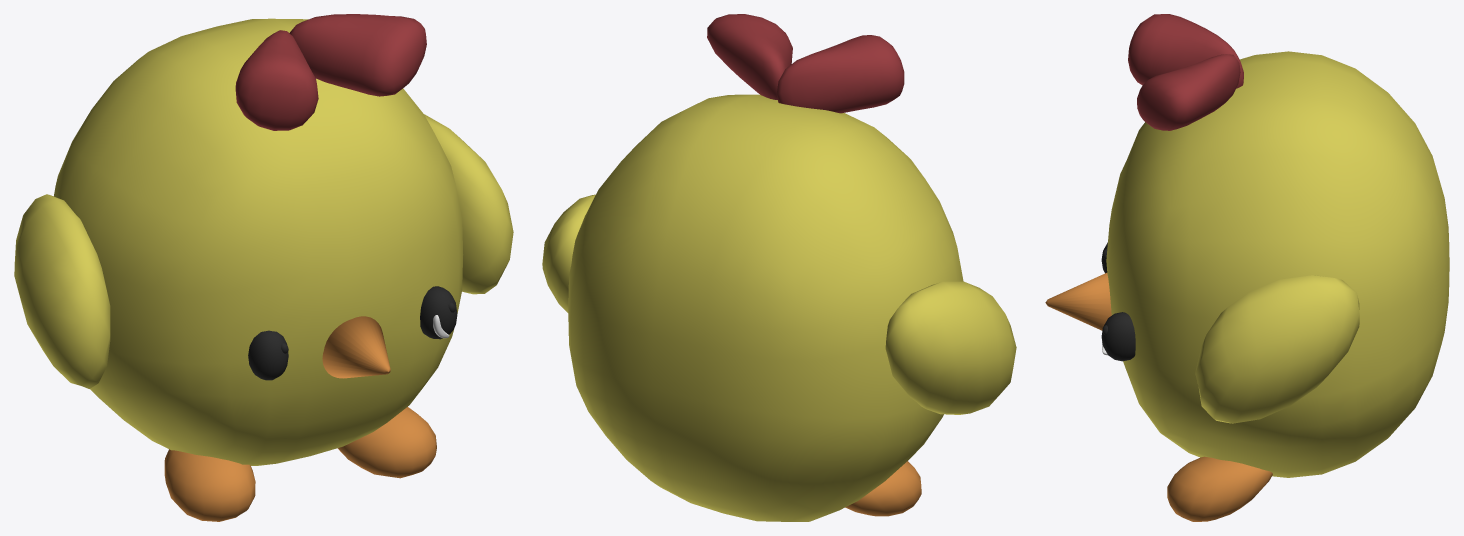
File: chicken_child.glb
The picture shows the model from 3 angles, left to right: view 1: azimuth 30°, elevation 25°; view 2: azimuth 150°, elevation 25°; view 3: azimuth 270°, elevation 25°; orthographic projection. The views are drawn at different scales.
Visible parts, largest first — view 1: Body, Body.013, Body.004, Body.014, Body.003, Body.011, Body.012, Body.010, Body.005, Body.007; view 2: Body, Body.013, Body.003, Body.004, Body.014, Body.011; view 3: Body, Body.014, Body.004, Body.012, Body.003, Body.010, Body.007.
Boxes of the visible parts, left/top/right/bottom form: Body: left=54, top=18, right=463, bottom=465; Body.013: left=14, top=194, right=110, bottom=388; Body.004: left=289, top=14, right=426, bottom=96; Body.014: left=424, top=114, right=513, bottom=294; Body.003: left=235, top=30, right=318, bottom=130; Body.011: left=164, top=449, right=255, bottom=521; Body.012: left=337, top=407, right=436, bottom=478; Body.010: left=322, top=316, right=390, bottom=378; Body.005: left=248, top=330, right=288, bottom=380; Body.007: left=420, top=286, right=457, bottom=339; Body: left=568, top=94, right=963, bottom=521; Body.013: left=885, top=281, right=1016, bottom=414; Body.003: left=776, top=35, right=904, bottom=113; Body.004: left=707, top=14, right=792, bottom=99; Body.014: left=542, top=194, right=595, bottom=312; Body.011: left=845, top=461, right=921, bottom=516; Body: left=1106, top=51, right=1449, bottom=477; Body.014: left=1195, top=275, right=1359, bottom=423; Body.004: left=1137, top=54, right=1240, bottom=130; Body.012: left=1167, top=456, right=1272, bottom=521; Body.003: left=1128, top=14, right=1243, bottom=88; Body.010: left=1045, top=273, right=1111, bottom=330; Body.007: left=1101, top=312, right=1135, bottom=361.
Size of the model in its own units: 0.4536 by 0.4364 by 0.3689.
